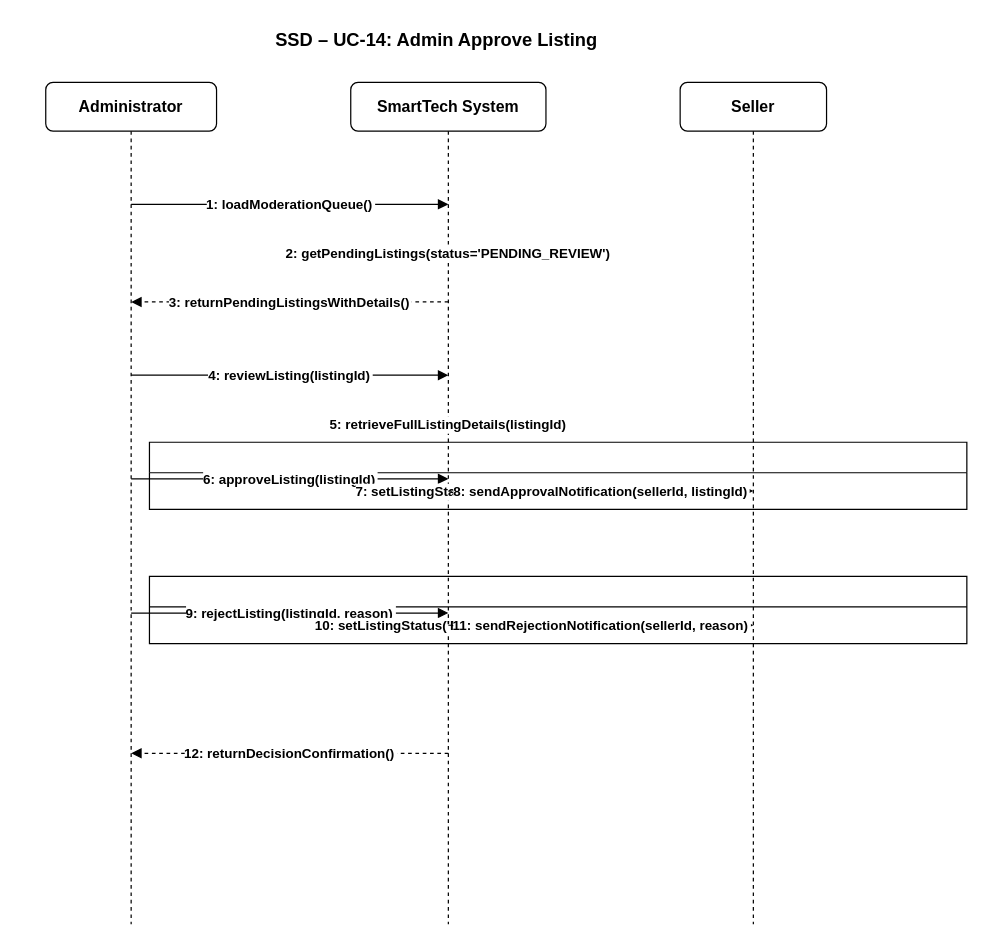
The diagram is 988 pixels wide and 947 high, and some of its shapes have lost their labels. Here are the shapes that lost their labels. From the top down, the box of each, then its label:
(148, 441, 967, 509): alt [Approve]
(148, 575, 967, 644): alt [Reject with reason]
